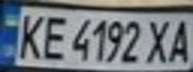1: (87, 16, 109, 63)
2: (121, 16, 148, 64)
4: (66, 15, 93, 62)
9: (106, 16, 127, 64)
A: (163, 16, 193, 64)
E: (36, 12, 72, 62)
K: (12, 10, 48, 61)
X: (142, 16, 175, 65)
